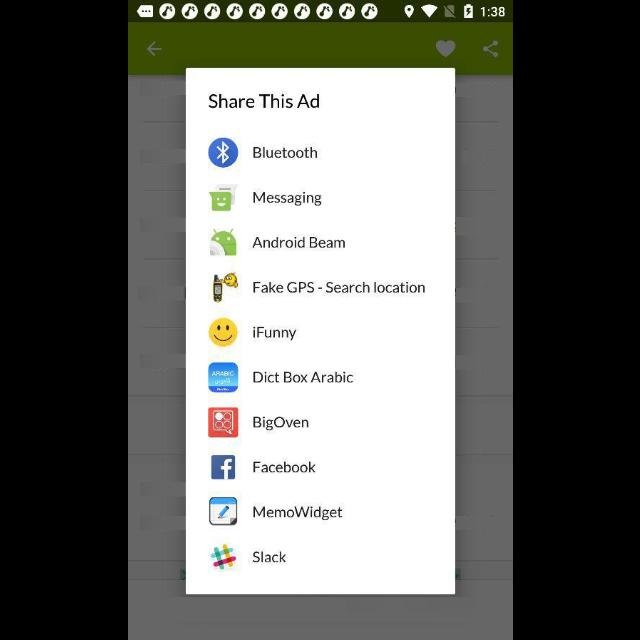icon: (208, 138, 238, 168), (211, 454, 235, 480), (436, 40, 454, 58), (482, 42, 498, 58), (146, 42, 160, 58)
image: (208, 496, 238, 526), (208, 408, 238, 438), (208, 362, 238, 392), (208, 318, 238, 347), (208, 184, 238, 212), (212, 272, 238, 304), (210, 228, 237, 256), (210, 544, 236, 570)
panel: (185, 68, 455, 594)
text: (253, 282, 424, 294), (208, 95, 320, 109), (252, 506, 342, 520), (253, 371, 353, 383), (251, 237, 345, 249), (252, 192, 322, 206), (253, 416, 309, 430), (253, 147, 317, 159), (253, 461, 315, 473), (252, 327, 296, 341), (252, 551, 286, 563)
uppertaskbar: (128, 1, 512, 23)
